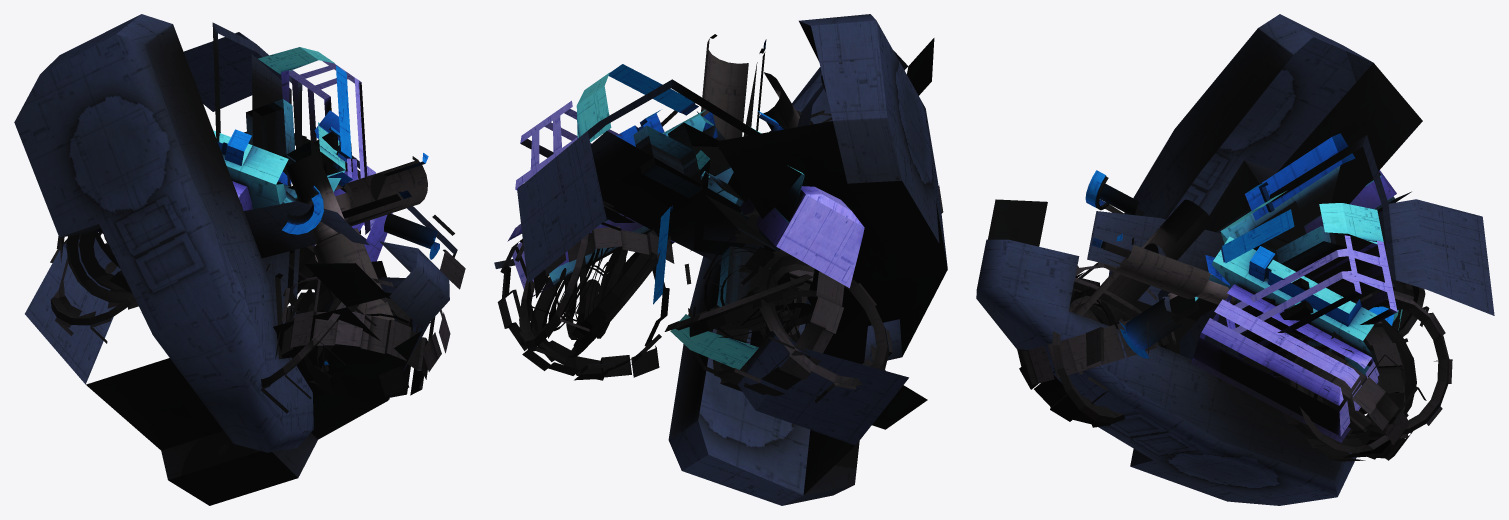
The model's file is PlayerA_Die5.obj.
3 views of the same model, side by side, from view 1: azimuth 30°, elevation 25°; view 2: azimuth 150°, elevation 25°; view 3: azimuth 270°, elevation 25° (orthographic). The views are drawn at different scales.
Visible parts, largest first — view 1: Object001; view 2: Object001; view 3: Object001.
Boxes of the visible parts, bbox=[...] form: Object001: bbox=[14, 14, 465, 505]; Object001: bbox=[494, 14, 947, 505]; Object001: bbox=[976, 14, 1494, 505].
Size of the model in its own units: 123 by 135 by 139.
1 material, 1 textured.
